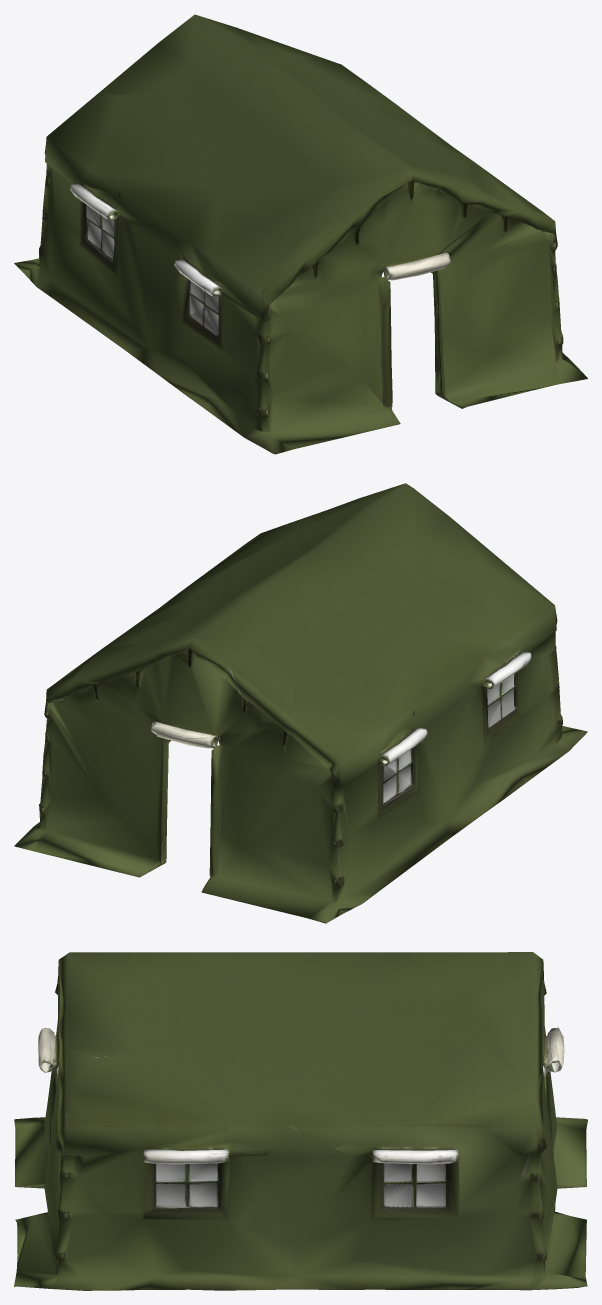
Rendered from Meshy_AI_Field_Headquarters_Te_0514111043_texture.fbx.
The picture shows the model from 3 angles, top to bottom: view 1: azimuth 30°, elevation 25°; view 2: azimuth 150°, elevation 25°; view 3: azimuth 270°, elevation 25°; orthographic projection. The views are drawn at different scales.
Parts seen in each view (by area): view 1: Mesh_0; view 2: Mesh_0; view 3: Mesh_0.
Boxes of the visible parts, <box> form: Mesh_0: <box>14,14,587,454</box>; Mesh_0: <box>14,483,587,923</box>; Mesh_0: <box>14,952,587,1290</box>.
Size of the model in its own units: 138 by 92.43 by 191.
Materials: 1 (1 with a texture image).
